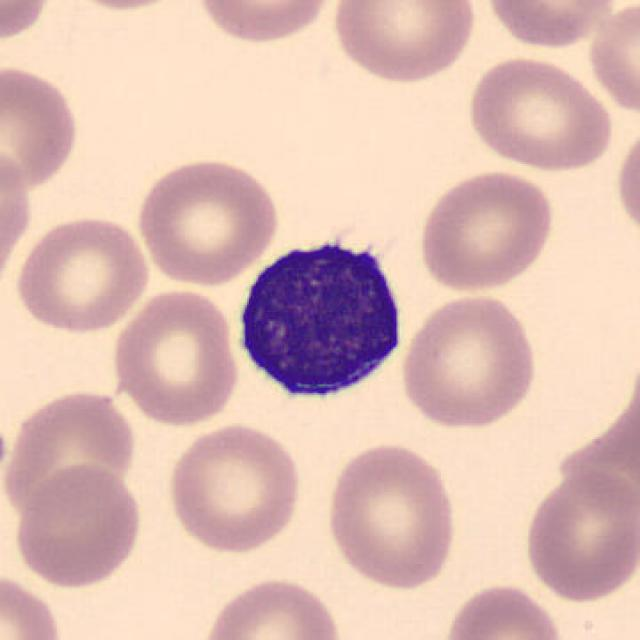Lymphocyte: (228, 220, 414, 409)
RBC: (322, 438, 460, 592), (396, 291, 540, 432), (133, 154, 283, 288), (0, 387, 142, 524), (164, 420, 306, 556), (108, 284, 242, 428), (462, 53, 617, 173), (414, 166, 558, 294), (10, 462, 146, 591), (12, 212, 153, 335), (521, 465, 638, 605), (329, 0, 480, 86), (0, 60, 84, 194), (197, 573, 347, 640), (441, 580, 567, 640), (188, 0, 339, 48), (480, 0, 622, 51), (583, 0, 640, 118), (0, 143, 36, 291), (0, 569, 68, 640), (611, 120, 640, 245), (0, 0, 59, 48), (48, 0, 197, 14)
